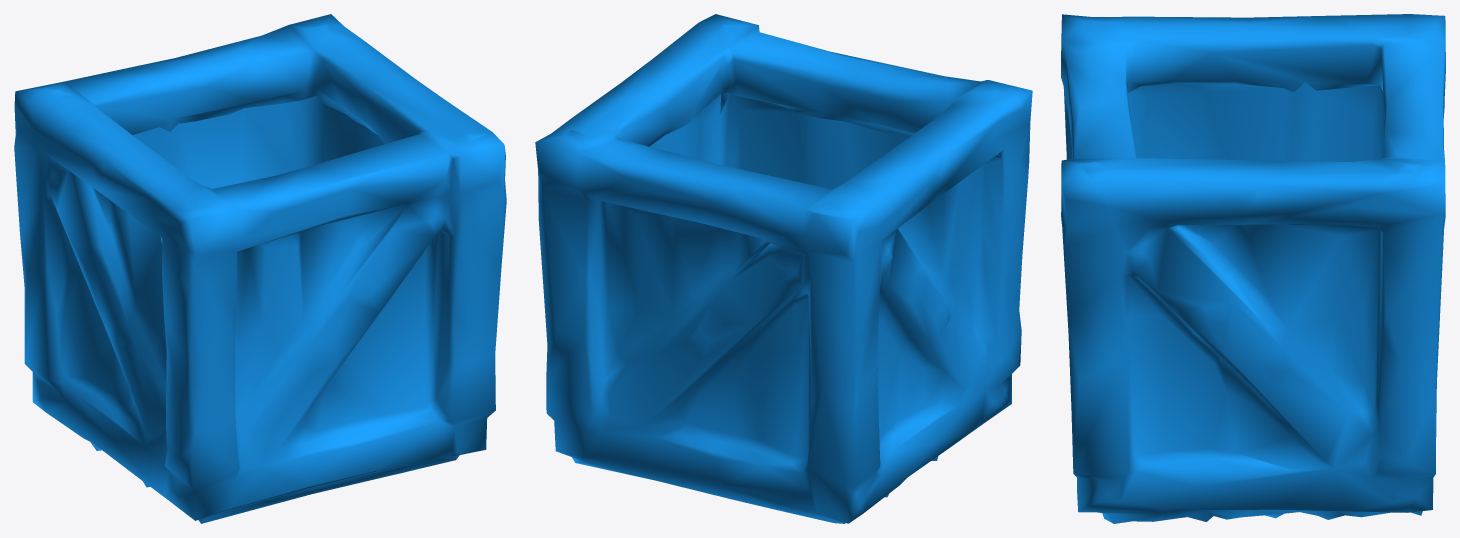
File: MDungeon_CrateOpen_01.FBX
3 renders of one model, left to right at view 1: azimuth 30°, elevation 25°; view 2: azimuth 150°, elevation 25°; view 3: azimuth 270°, elevation 25°, orthographic. The views are drawn at different scales.
Visible parts, largest first — view 1: MDungeon_CrateClosed_01_LOD0; view 2: MDungeon_CrateClosed_01_LOD0; view 3: MDungeon_CrateClosed_01_LOD0.
Boxes of the visible parts, x1,y1,x2,y2 form: MDungeon_CrateClosed_01_LOD0: (14, 14, 506, 523); MDungeon_CrateClosed_01_LOD0: (535, 14, 1032, 523); MDungeon_CrateClosed_01_LOD0: (1061, 14, 1445, 523).
Size of what is drawn, in the model's own units: 1.02 by 1.03 by 0.9796.
